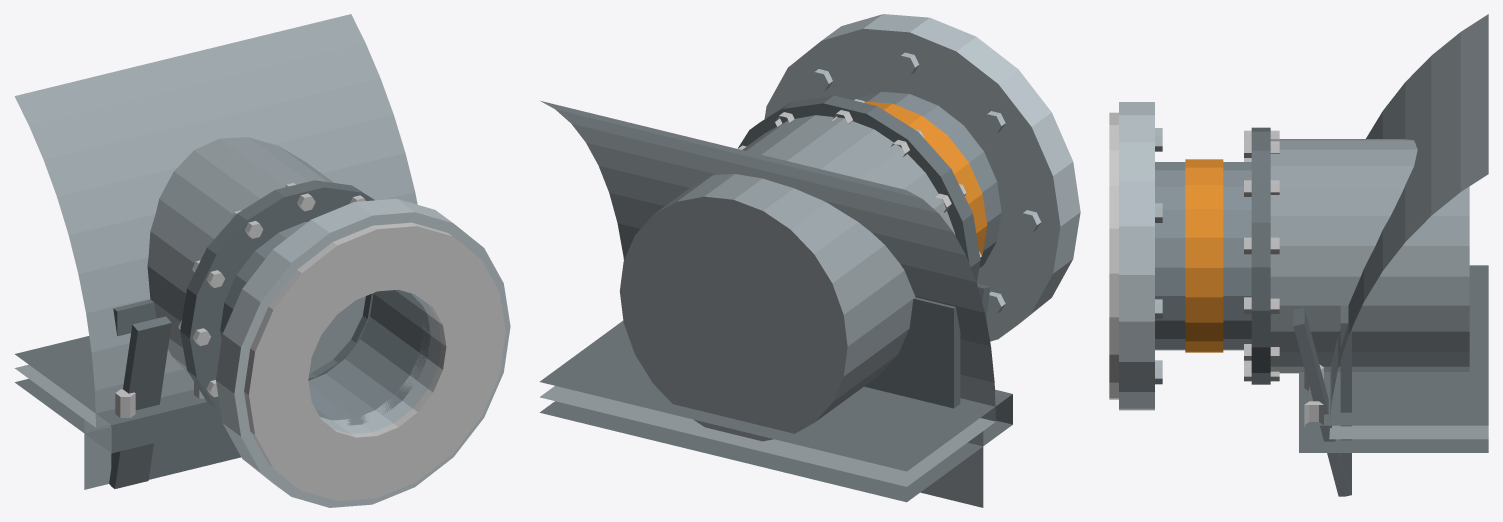
The model's file is cell_52.obj.
3 views of the same model, side by side, from view 1: azimuth 30°, elevation 25°; view 2: azimuth 150°, elevation 25°; view 3: azimuth 270°, elevation 25° (orthographic). The views are drawn at different scales.
Size of the model in its own units: 1 by 0.9715 by 1.
